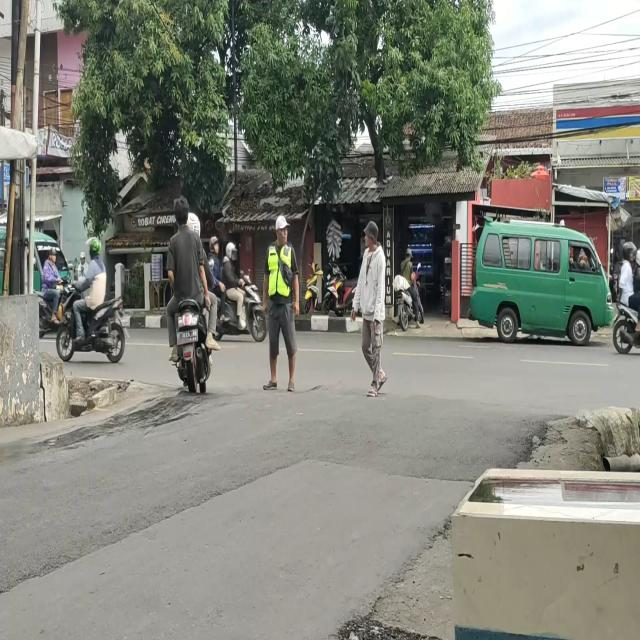helmet: (622, 241, 637, 265), (88, 238, 101, 260), (209, 234, 221, 257), (226, 240, 237, 263)
no-helmet: (173, 200, 190, 228), (48, 247, 58, 266)
